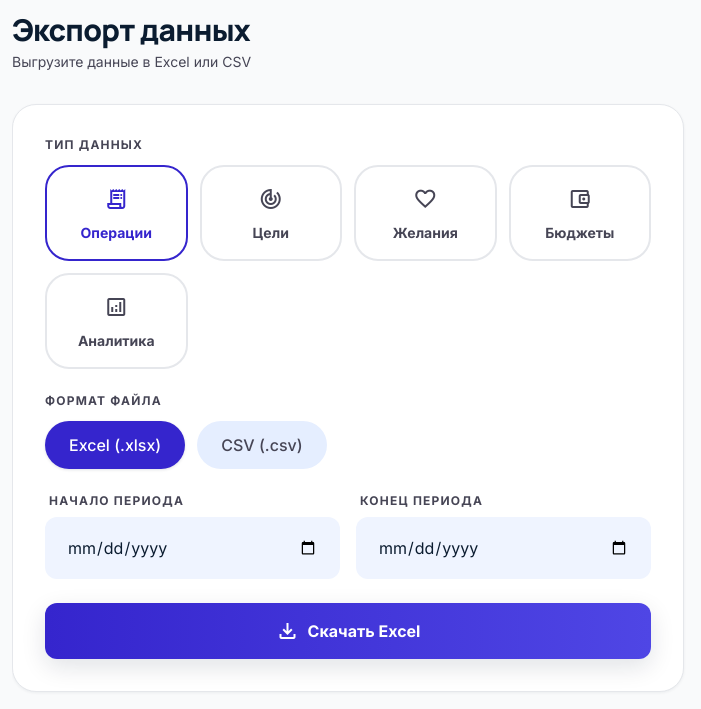
Test: Export › shows loading spinner during export
The width and height of the screenshot is (701, 709).
What coordinates should you click on to do the following:
click the button "Скачать Excel"
I would click on:
 (348, 631)
Its box is left=45, top=603, right=651, bottom=659.
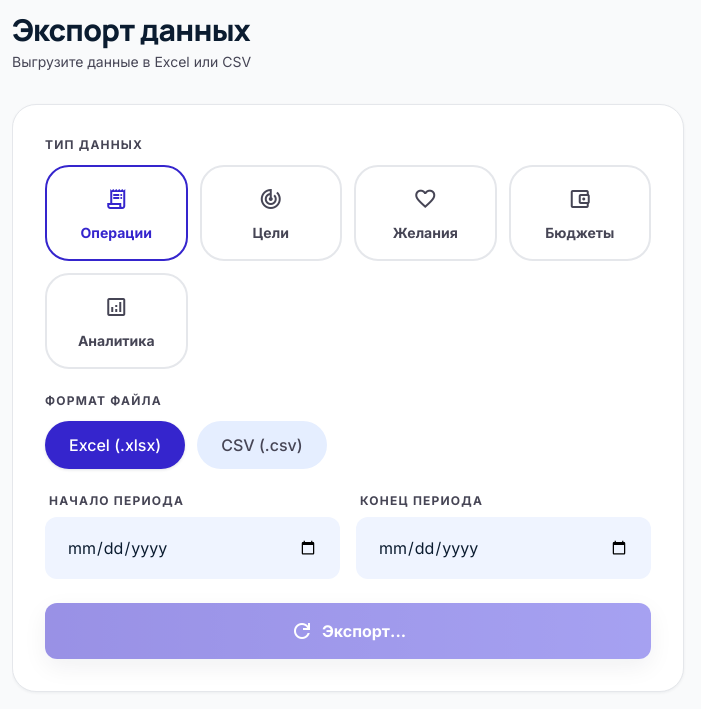
Check: the text "Экспорт..." is shown, box left=290, top=617, right=406, bottom=645
